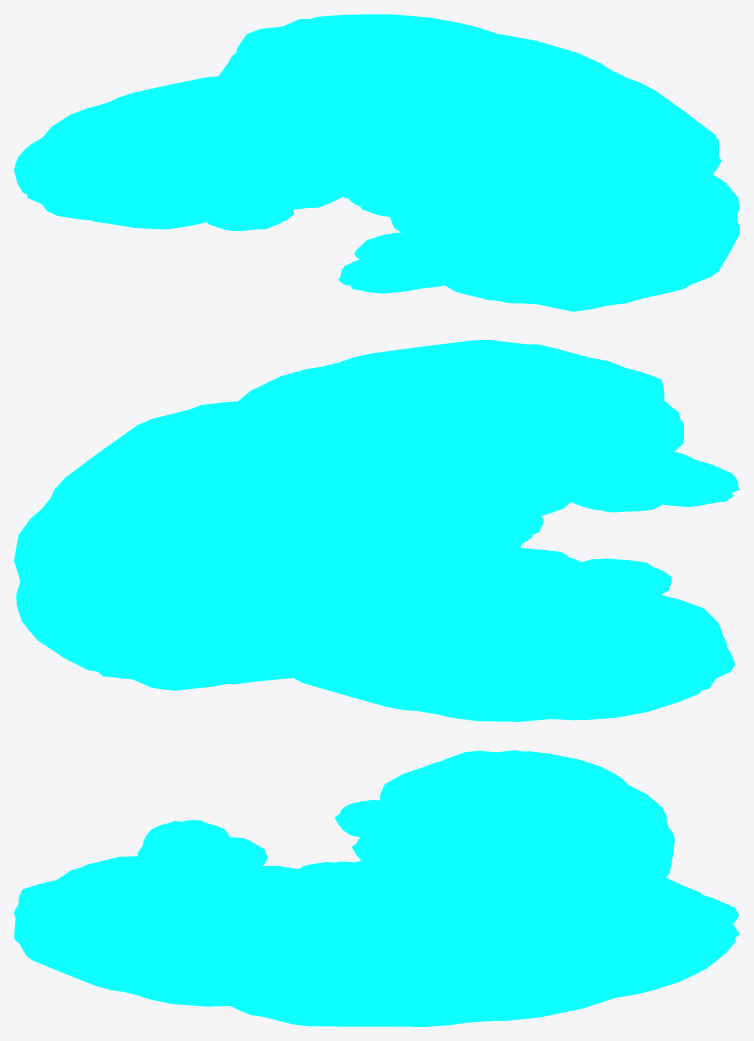
The model's file is Water.fbx.
The picture shows the model from 3 angles, top to bottom: view 1: azimuth 30°, elevation 25°; view 2: azimuth 150°, elevation 25°; view 3: azimuth 270°, elevation 25°; orthographic projection. The views are drawn at different scales.
Parts seen in each view (by area): view 1: Water_01__2_, Water_01__3_, Water_01__8_, Water_01__4_, Water_01__6_, Water_01__1_, Water_01__5_, Water, Water_01__7_; view 2: Water_01__2_, Water_01__3_, Water_01__8_, Water_01__4_, Water_01__6_, Water_01__1_, Water_01__5_, Water, Water_01__7_; view 3: Water_01__2_, Water_01__3_, Water_01__8_, Water_01__4_, Water_01__6_, Water_01__1_, Water_01__5_, Water, Water_01__7_.
Boxes of the visible parts, <box> form: Water_01__2_: <box>217,14,721,217</box>; Water_01__3_: <box>390,128,739,311</box>; Water_01__8_: <box>14,76,377,229</box>; Water_01__4_: <box>338,242,491,293</box>; Water_01__6_: <box>193,188,293,230</box>; Water_01__1_: <box>317,156,416,199</box>; Water_01__5_: <box>245,166,341,209</box>; Water: <box>349,177,447,216</box>; Water_01__7_: <box>354,232,434,271</box>; Water_01__2_: <box>14,400,477,690</box>; Water_01__3_: <box>221,340,683,529</box>; Water_01__8_: <box>294,569,735,721</box>; Water_01__4_: <box>547,450,739,506</box>; Water_01__6_: <box>555,558,671,610</box>; Water_01__1_: <box>400,523,521,574</box>; Water_01__5_: <box>465,548,583,599</box>; Water: <box>427,499,543,549</box>; Water_01__7_: <box>568,473,675,512</box>; Water_01__2_: <box>221,873,739,1026</box>; Water_01__3_: <box>14,856,408,1006</box>; Water_01__8_: <box>380,750,674,907</box>; Water_01__4_: <box>137,820,230,891</box>; Water_01__6_: <box>335,799,434,837</box>; Water_01__1_: <box>338,858,437,897</box>; Water_01__5_: <box>352,830,449,866</box>; Water: <box>288,861,376,898</box>; Water_01__7_: <box>184,837,267,870</box>.
Size of the model in its own units: 143556 by 670 by 159440.
